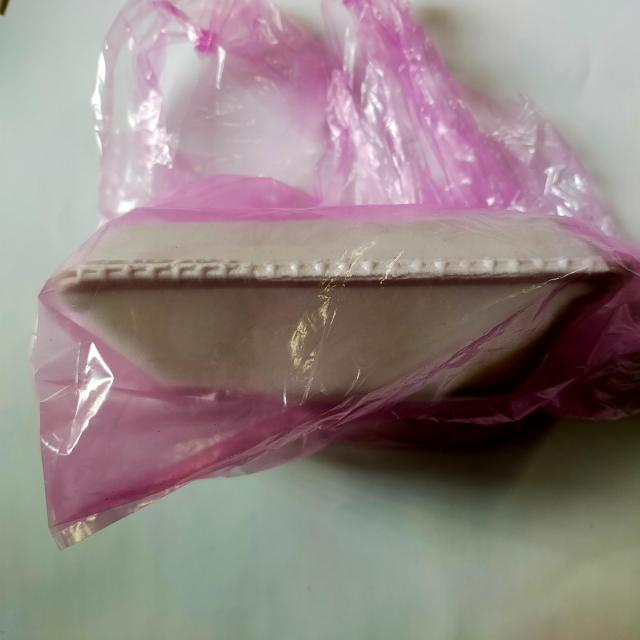styrofoam: (30, 1, 638, 549)
